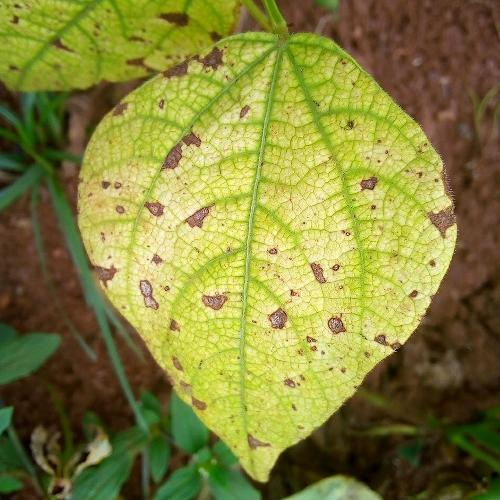hawar: (77, 30, 457, 483)
